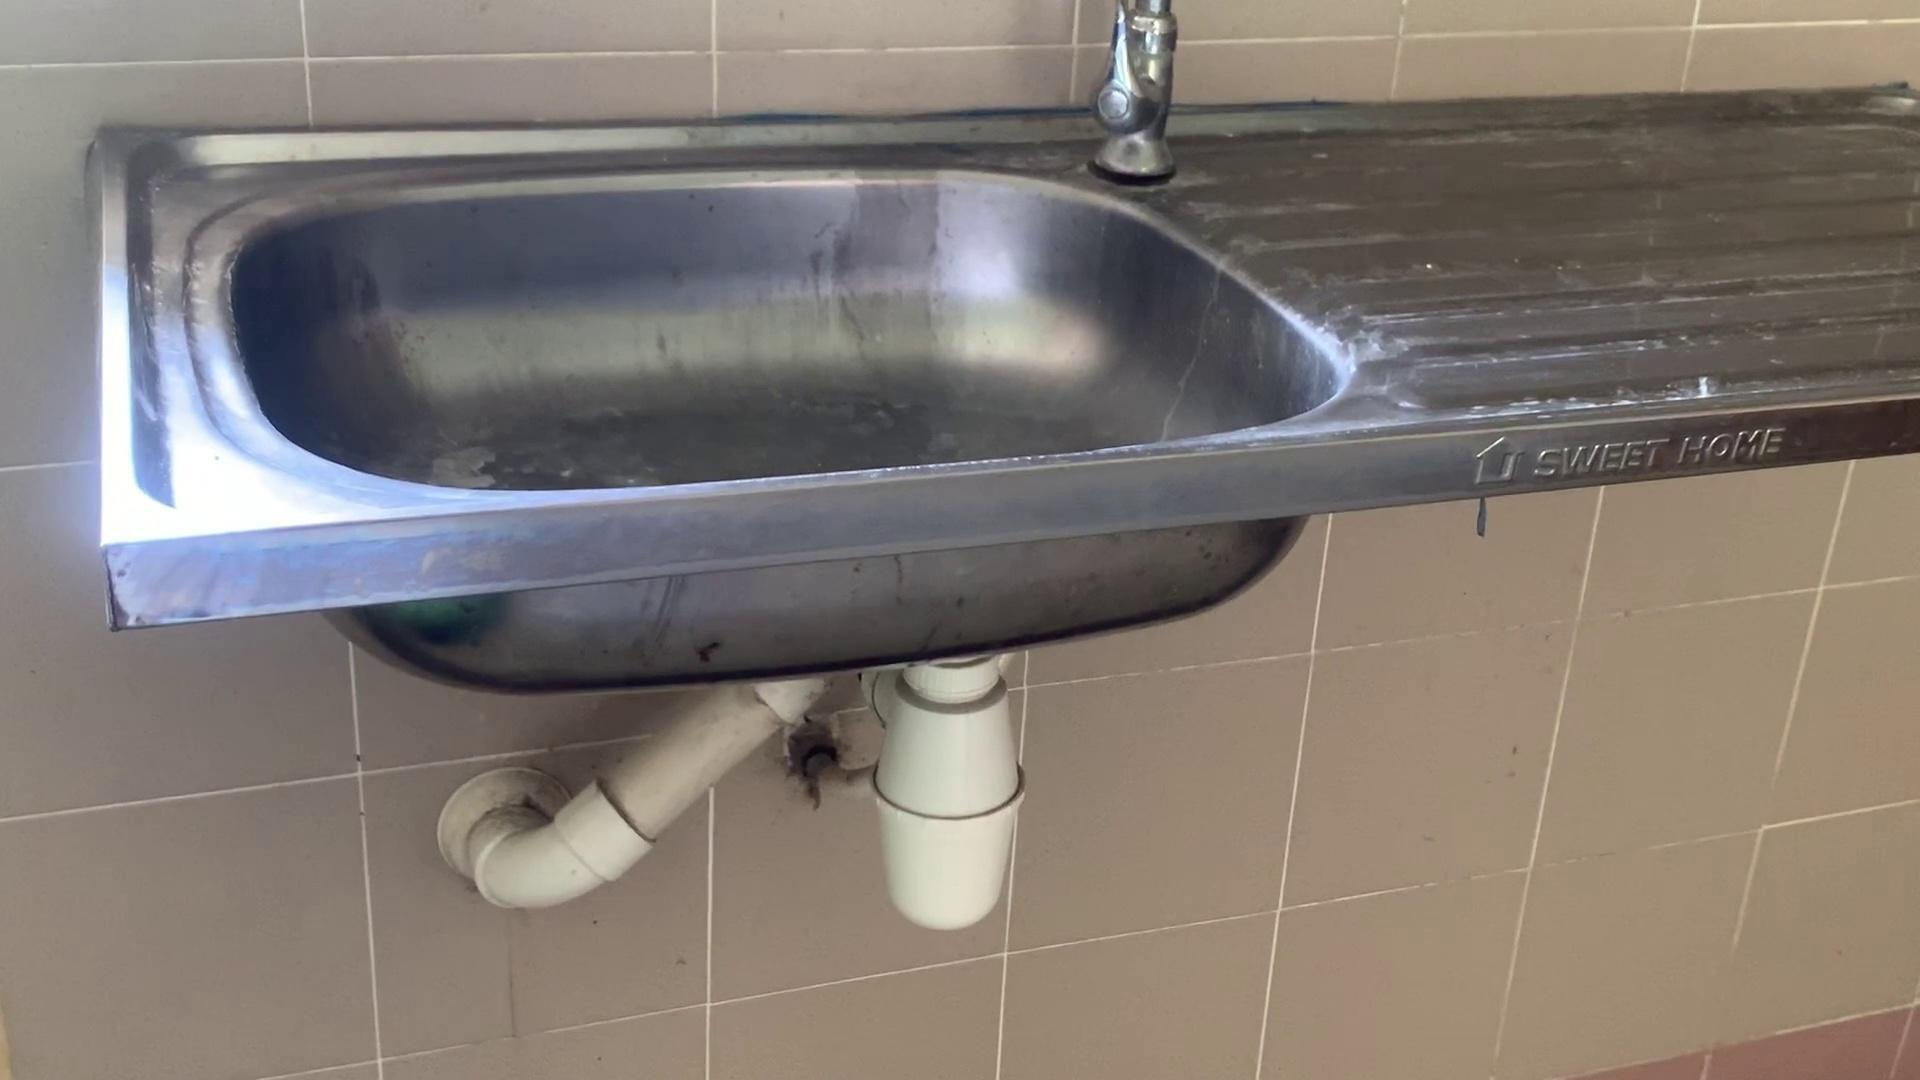Lavaplatos: (0, 0, 1464, 775)
